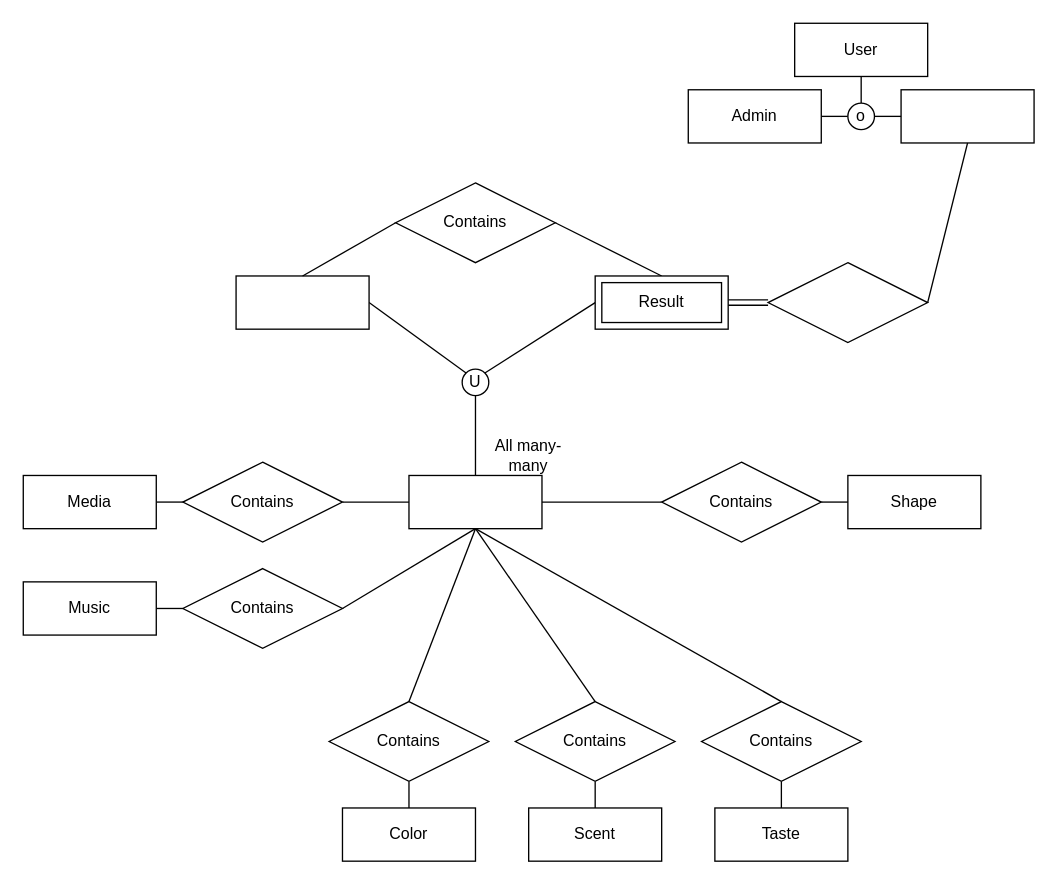
The diagram is 1057 pixels wide and 884 high, and some of its shapes have lost their labels. The centre of each missing label's shape, as x and y in pixels:
"Client" belongs at point (967, 115).
"Composer" belongs at point (475, 501).
"Creates" belongs at point (847, 301).
"Mood" belongs at point (302, 302).
